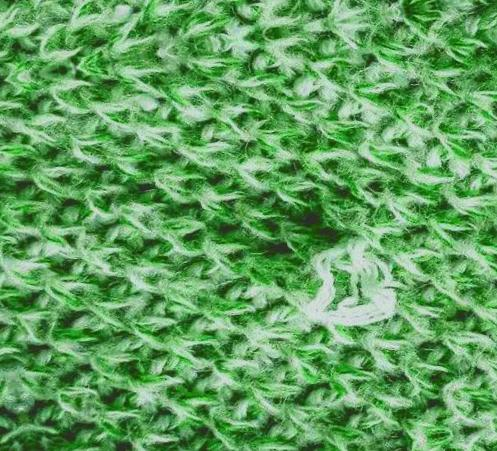snag: (301, 238, 404, 335)
